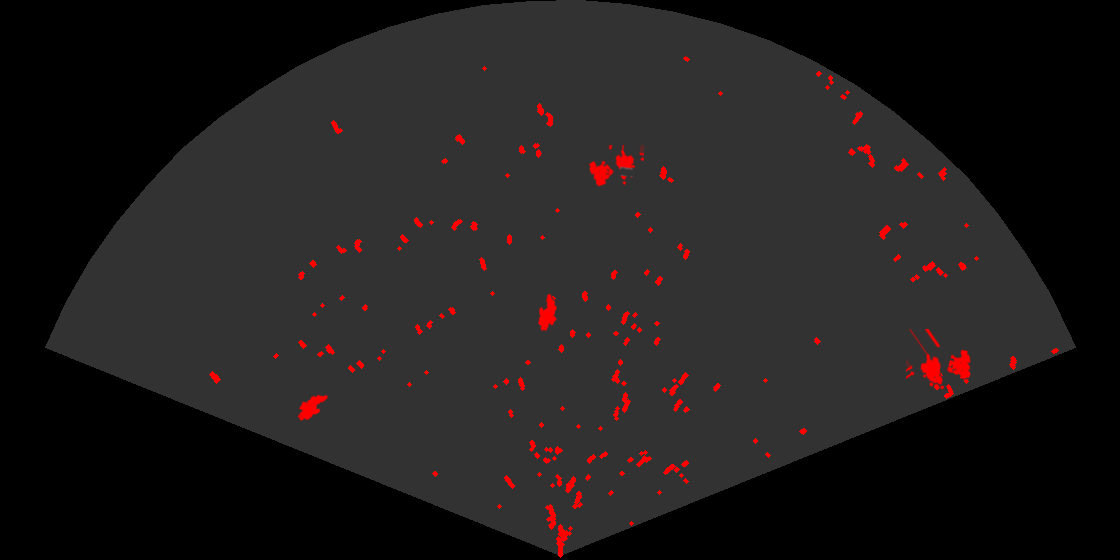AUV: (296, 393, 330, 422), (536, 292, 557, 333)
cage: (906, 329, 972, 391), (587, 145, 644, 188)
